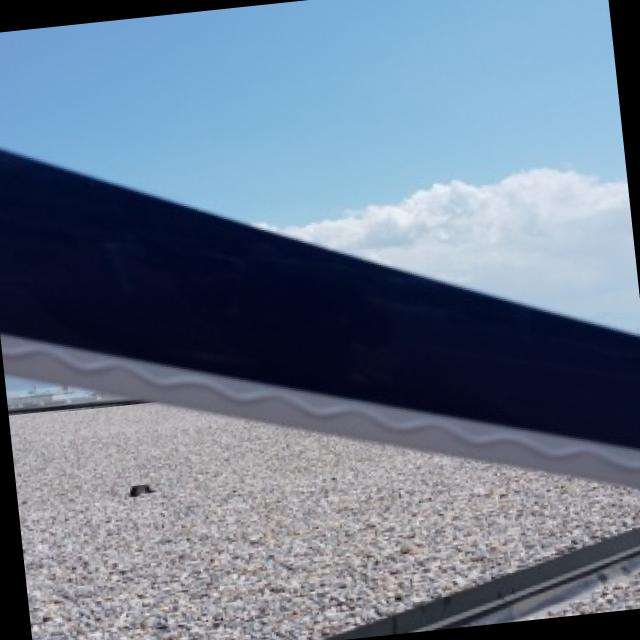healthy: (0, 149, 640, 485), (11, 402, 640, 640)
